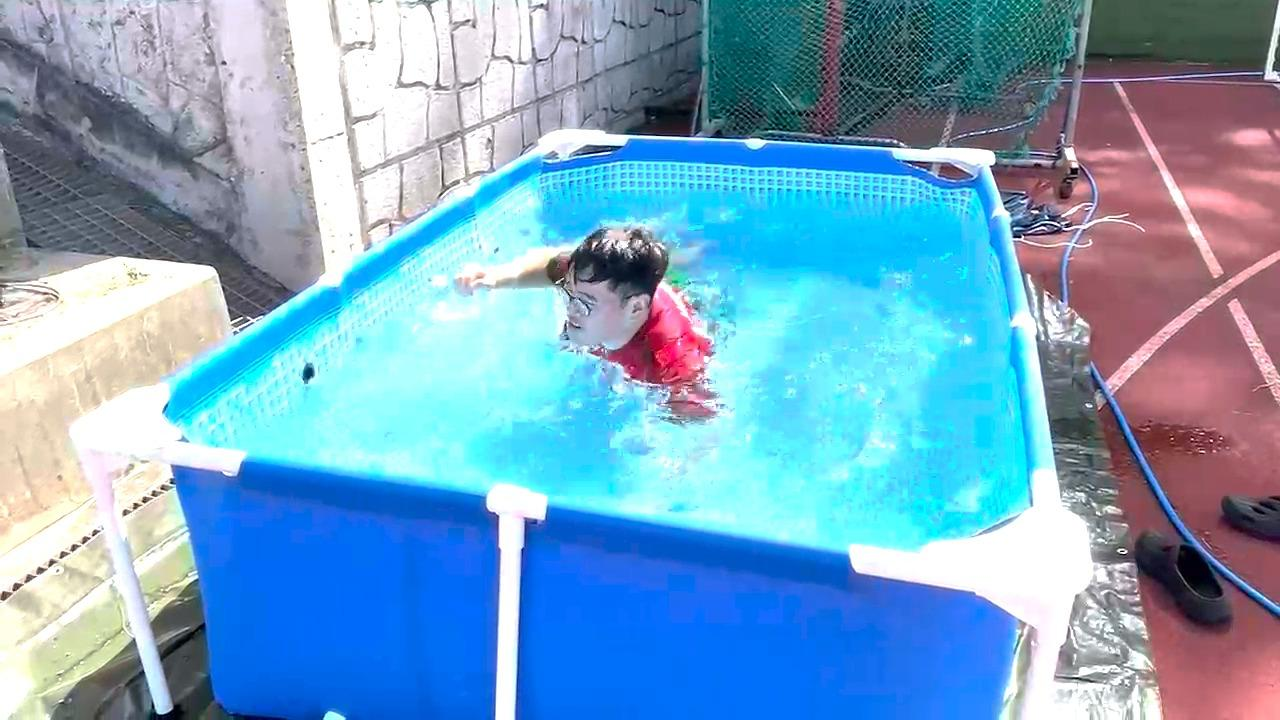Swimming: (473, 190, 719, 427)
